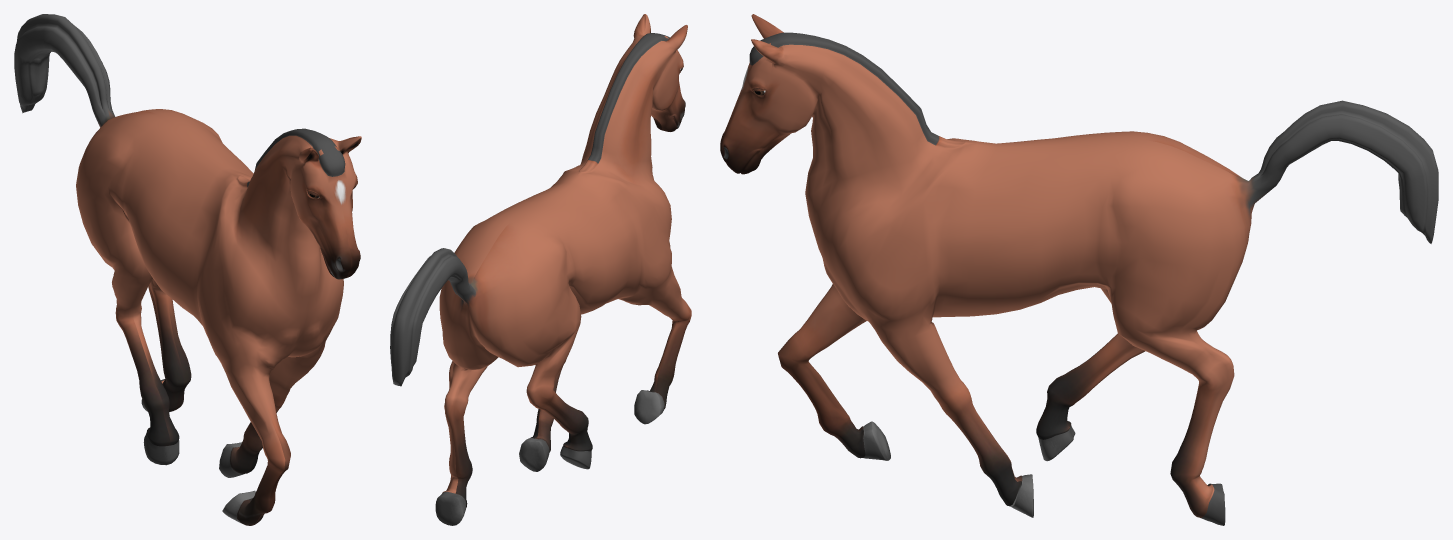
Rendered from horse_obj_4.obj.
The picture shows the model from 3 angles, left to right: view 1: azimuth 30°, elevation 25°; view 2: azimuth 150°, elevation 25°; view 3: azimuth 270°, elevation 25°; orthographic projection. The views are drawn at different scales.
Visible parts, largest first — view 1: Figure_1; view 2: Figure_1; view 3: Figure_1.
Boxes of the visible parts, x1,y1,x2,y2 form: Figure_1: (14, 14, 361, 525); Figure_1: (390, 14, 691, 525); Figure_1: (720, 14, 1438, 525).
Bounding box in the file's own units: 0.2421 × 0.7941 × 1.08.
7 materials, 7 textured.
